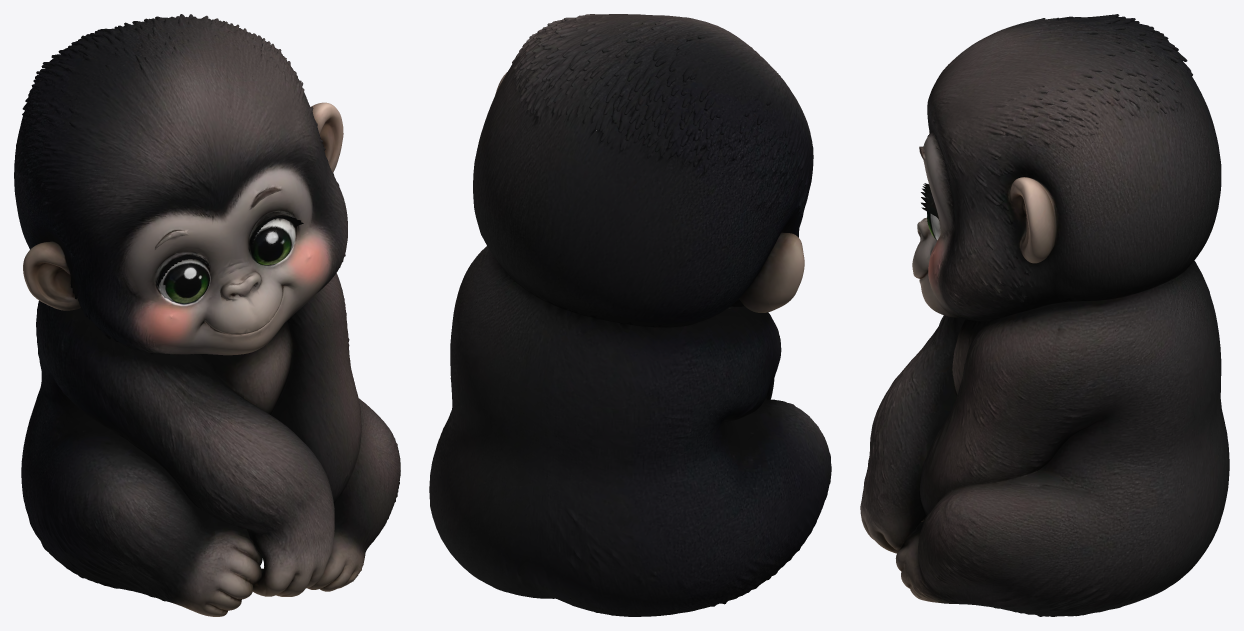
The model's file is gorillino.glb.
3 views of the same model, side by side, from view 1: azimuth 30°, elevation 25°; view 2: azimuth 150°, elevation 25°; view 3: azimuth 270°, elevation 25° (orthographic). The views are drawn at different scales.
Parts seen in each view (by area): view 1: tripo_node_7d5a5f9d-ae09-40de-a3cc-7c36640c7526; view 2: tripo_node_7d5a5f9d-ae09-40de-a3cc-7c36640c7526; view 3: tripo_node_7d5a5f9d-ae09-40de-a3cc-7c36640c7526.
Part boxes in pixels (bbox=[...]): tripo_node_7d5a5f9d-ae09-40de-a3cc-7c36640c7526: bbox=[14, 14, 400, 616]; tripo_node_7d5a5f9d-ae09-40de-a3cc-7c36640c7526: bbox=[429, 14, 831, 616]; tripo_node_7d5a5f9d-ae09-40de-a3cc-7c36640c7526: bbox=[860, 14, 1229, 616].
Bounding box in the file's own units: 0.6681 × 0.9795 × 0.6311.
Materials: 1 (1 with a texture image).
